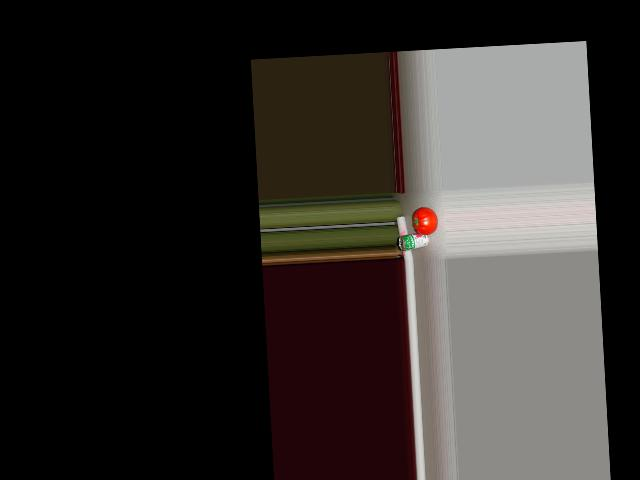tomato: (413, 206, 438, 235)
